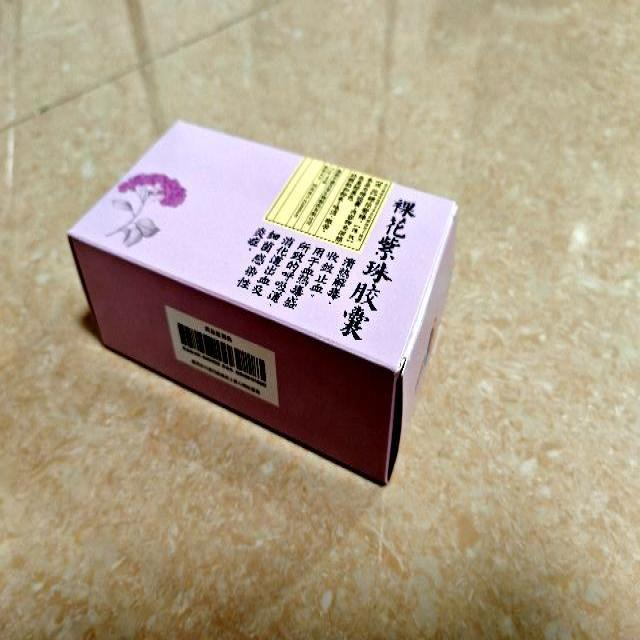box: (68, 119, 456, 482)
